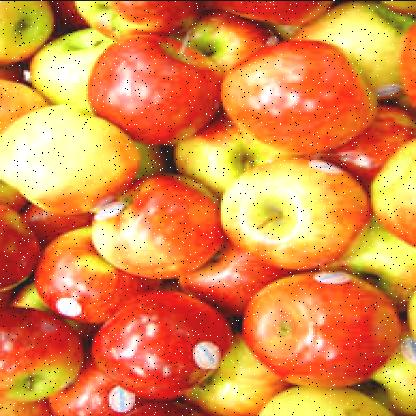apple: (238, 272, 396, 390), (225, 38, 367, 154), (86, 29, 226, 141), (223, 160, 365, 268), (3, 105, 128, 216), (90, 174, 221, 274), (88, 294, 212, 392), (38, 230, 154, 331), (170, 100, 274, 192), (0, 306, 86, 402), (172, 244, 268, 320)
